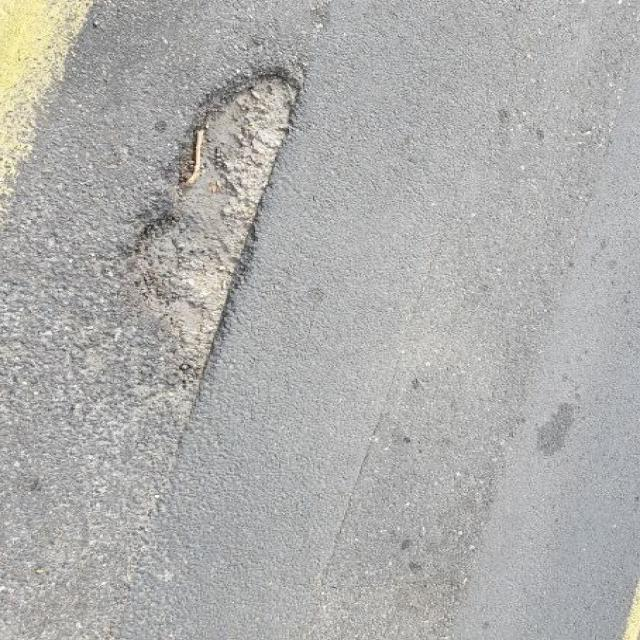Pothole: (105, 54, 308, 396)
